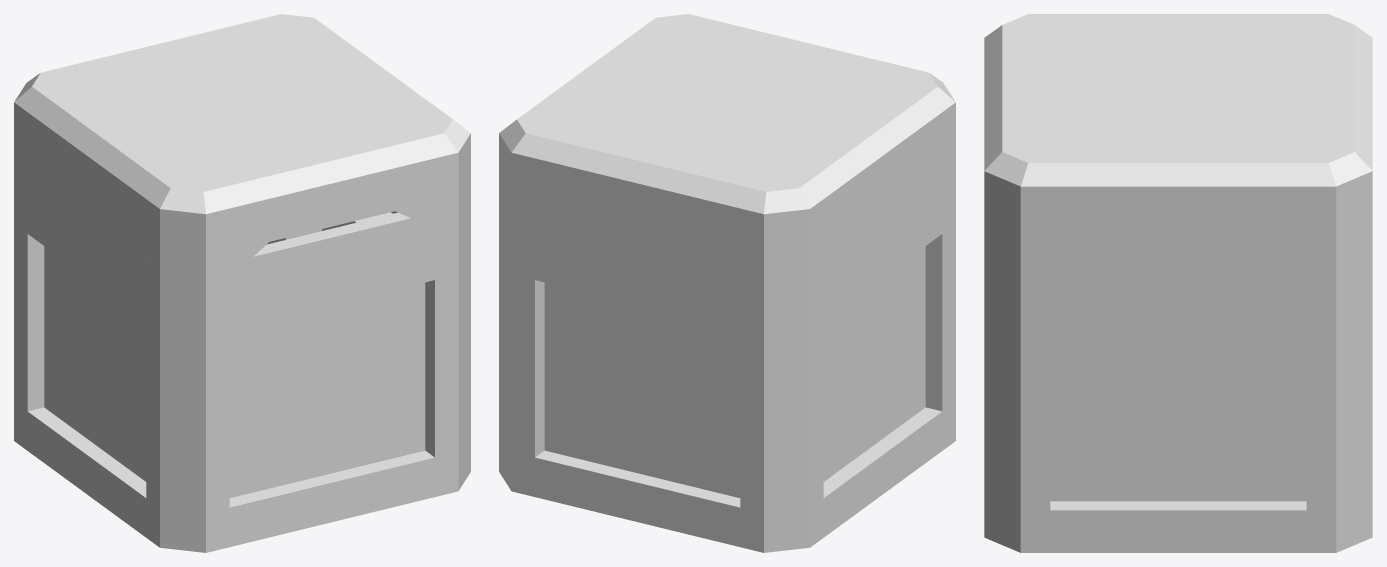
Rendered from Cont_Box_Static.fbx.
The picture shows the model from 3 angles, left to right: view 1: azimuth 30°, elevation 25°; view 2: azimuth 150°, elevation 25°; view 3: azimuth 270°, elevation 25°; orthographic projection. The views are drawn at different scales.
Visible parts, largest first — view 1: Cont_Box_Static; view 2: Cont_Box_Static; view 3: Cont_Box_Static.
Boxes of the visible parts, x1=… form: Cont_Box_Static: x1=14, y1=14, x2=470, y2=552; Cont_Box_Static: x1=499, y1=14, x2=955, y2=552; Cont_Box_Static: x1=984, y1=14, x2=1372, y2=552.
Size of the model in its own units: 0.9186 by 0.9976 by 0.9186.
